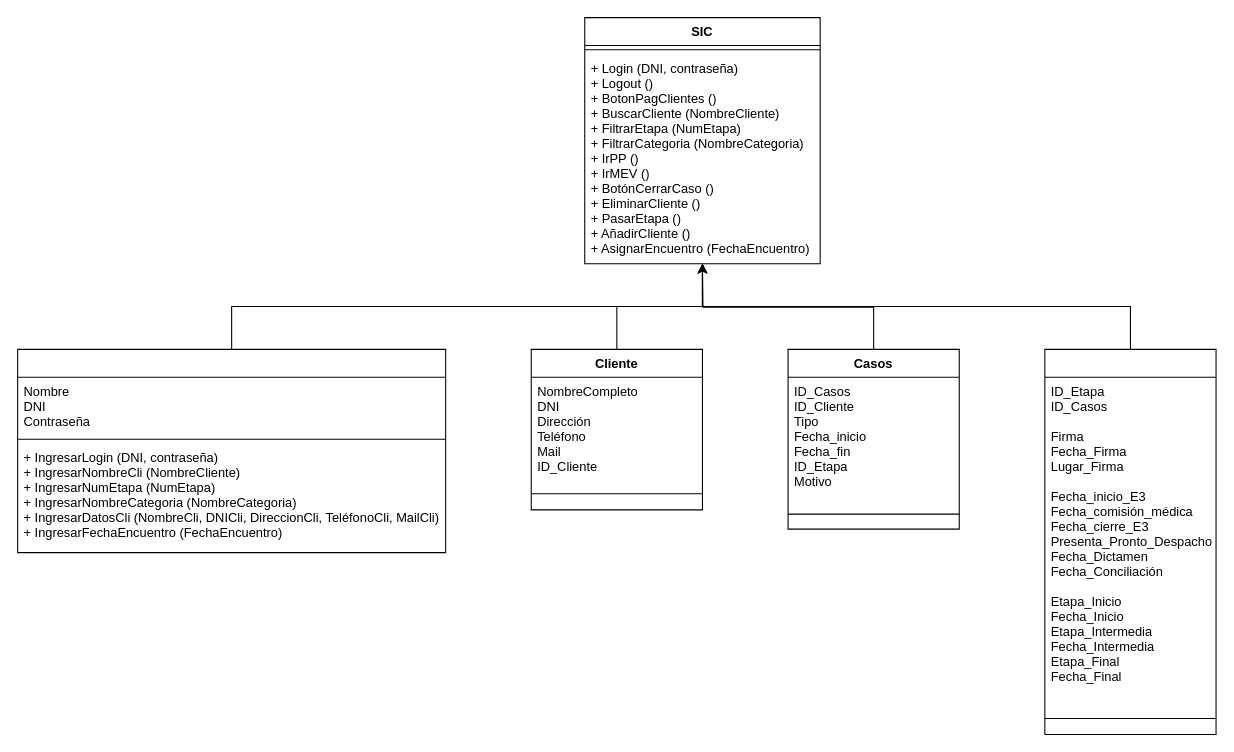
The diagram is 1234 pixels wide and 752 high, and some of its shapes have lost their labels. Each missing label, with the box of its shape:
Etapas: (1044, 348, 1216, 735)
Usuario: (17, 348, 446, 553)
